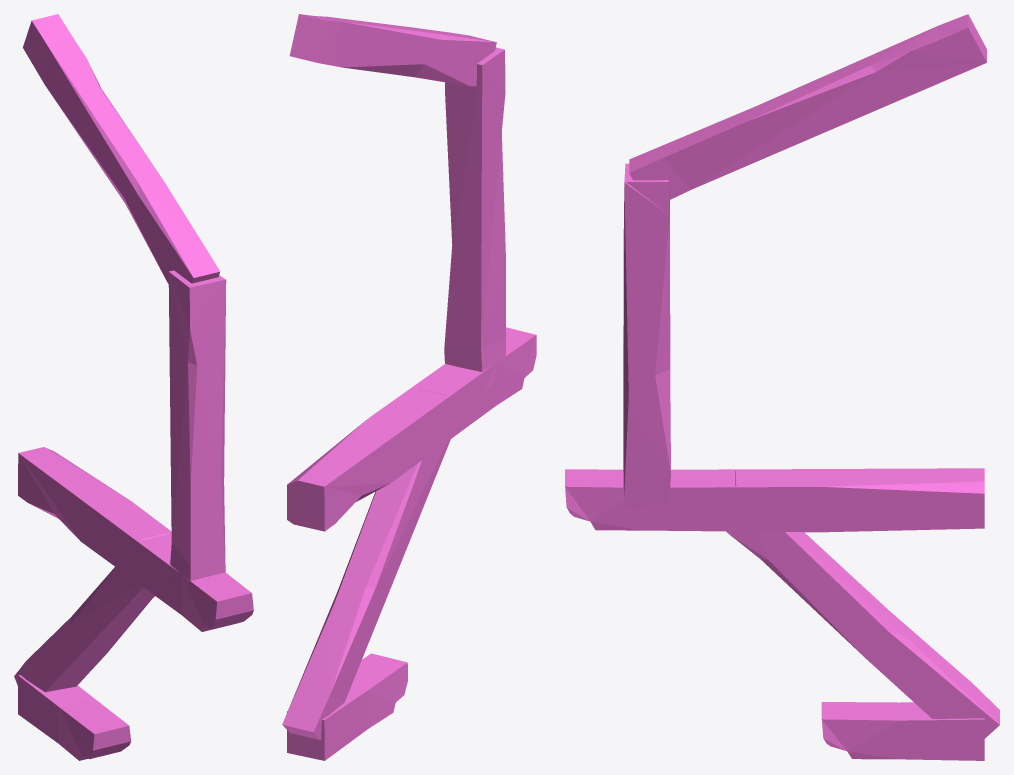
The model's file is SM_Hoarding_Support_A_Fantasy.fbx.
3 views of the same model, side by side, from view 1: azimuth 30°, elevation 25°; view 2: azimuth 150°, elevation 25°; view 3: azimuth 270°, elevation 25° (orthographic). The views are drawn at different scales.
Parts seen in each view (by area): view 1: SM_Hoarding_Support_A_Fantasy; view 2: SM_Hoarding_Support_A_Fantasy; view 3: SM_Hoarding_Support_A_Fantasy.
Boxes of the visible parts, <box> form: SM_Hoarding_Support_A_Fantasy: <box>14,14,253,760</box>; SM_Hoarding_Support_A_Fantasy: <box>282,14,536,760</box>; SM_Hoarding_Support_A_Fantasy: <box>565,14,999,760</box>.
Bounding box in the file's own units: 0.2706 × 4.72 × 2.54.
